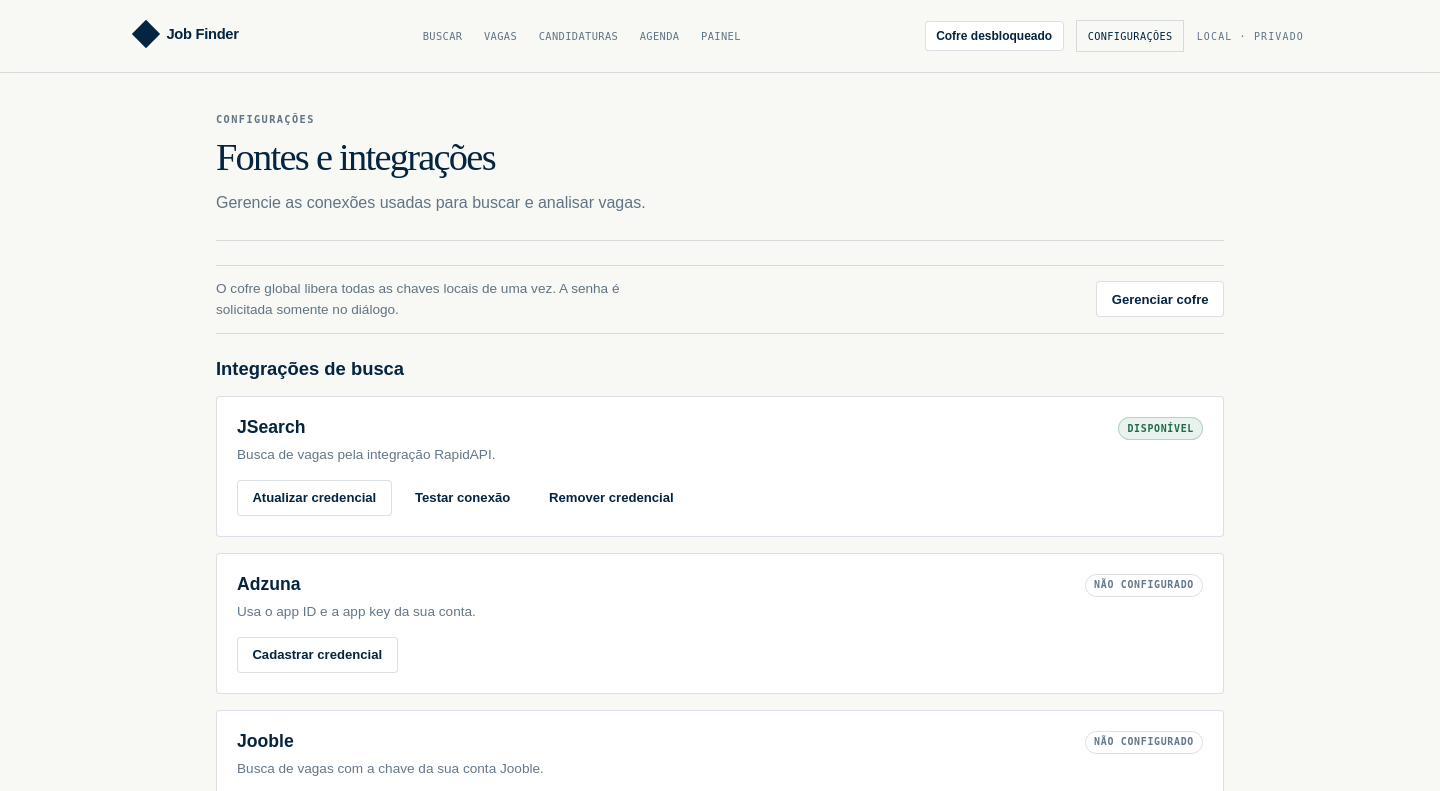
Scenario: JF-819 fontes e configurações › só testa mediante confirmação de consumo de cota e não inicia uma busca agregada
Click the button "Testar conexão": (463, 498) left=400, top=480, right=526, bottom=516
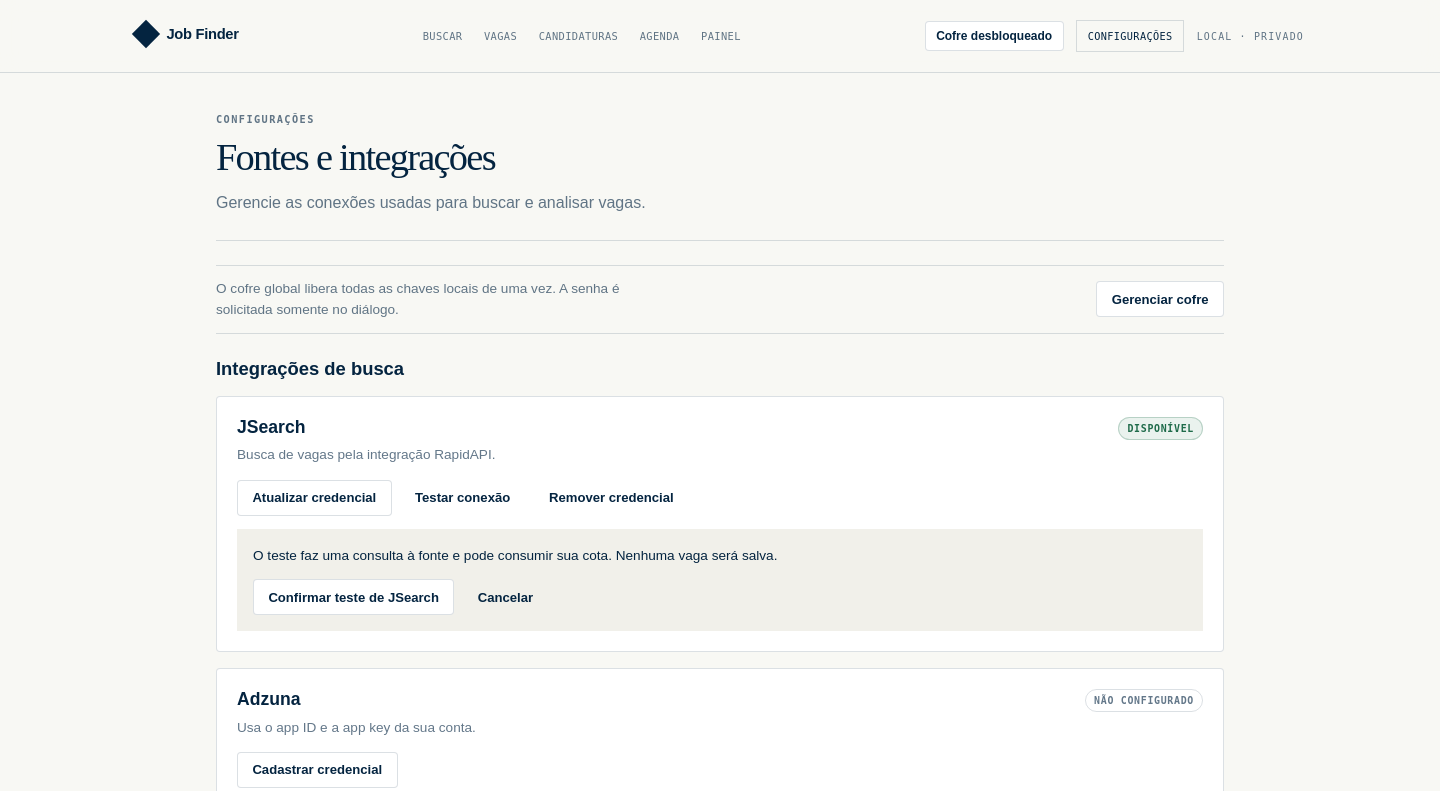
Click the button "Confirmar teste de JSearch": (354, 597) left=253, top=579, right=454, bottom=615
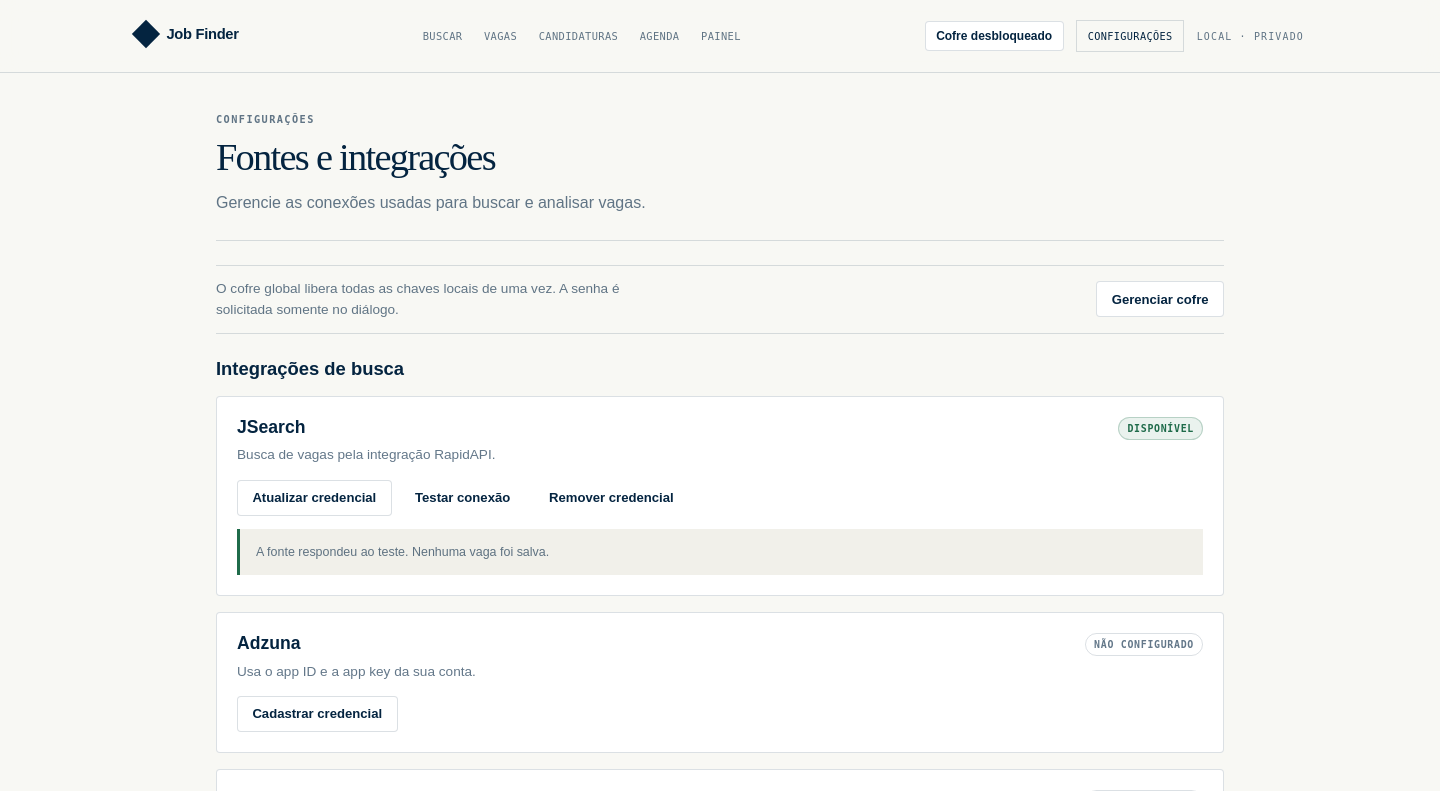
Result: the text "A fonte respondeu ao teste. Nenhuma vaga foi salva." is shown at left=256, top=545, right=549, bottom=559
